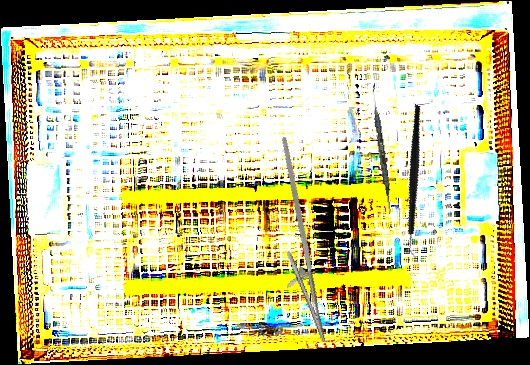Chopper: (359, 104, 475, 260)
Needle Holder: (242, 136, 351, 348)
Spatula Surgical: (367, 83, 396, 214)
